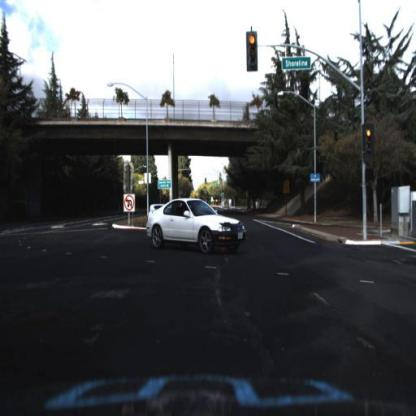car: (141, 194, 249, 253)
trafficLight: (364, 123, 375, 159)
trafficLight-Red: (247, 32, 257, 72)
